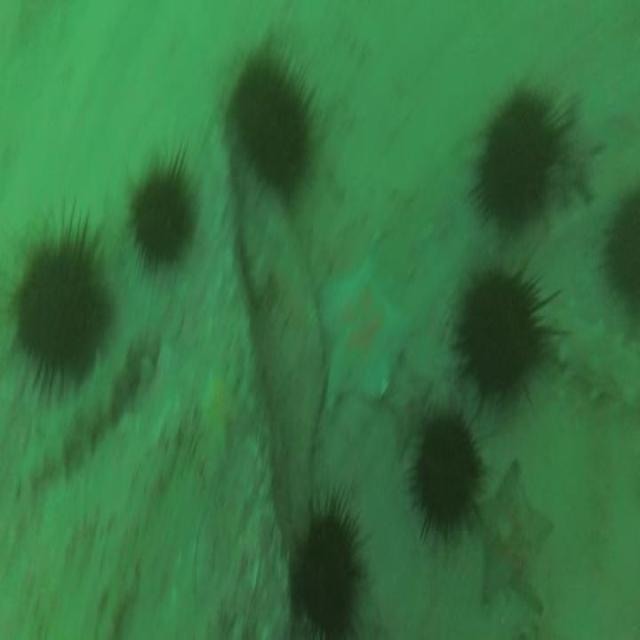echinus: (14, 243, 106, 376), (482, 97, 562, 229), (462, 273, 542, 392), (234, 62, 308, 190), (296, 507, 360, 640), (412, 412, 480, 531), (132, 172, 192, 255), (604, 186, 640, 312)
holothurian: (7, 311, 165, 482), (536, 300, 639, 416)
starfish: (316, 259, 414, 411), (476, 458, 550, 600), (197, 370, 241, 439)
